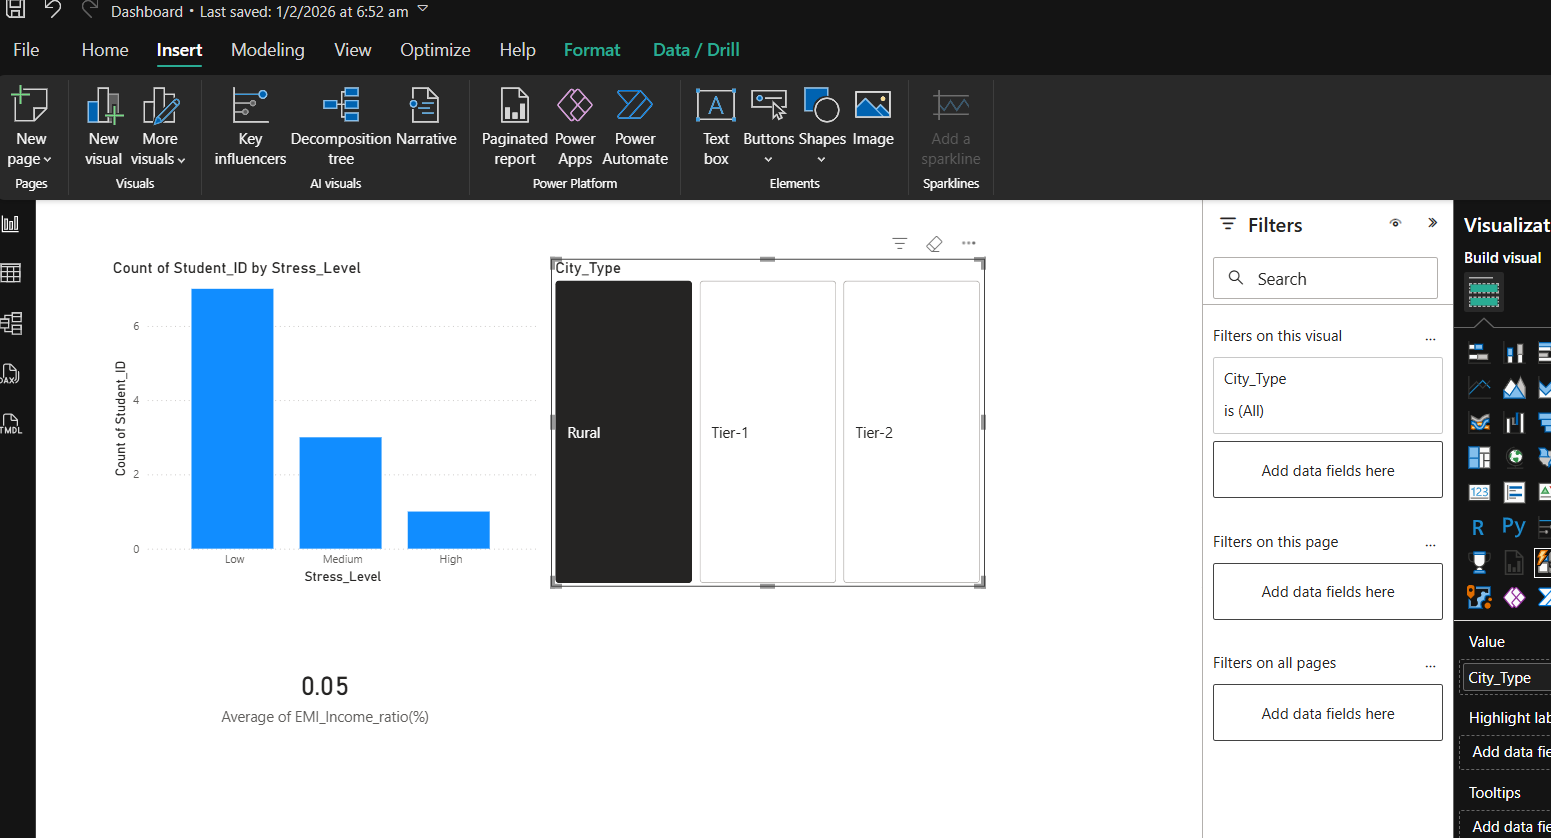

What the dashboard file says about the page in this screenshot:
{"tool":"powerbi","page":{"name":"Page 1","canvas":[1280,720],"ordinal":0},"visuals":[{"type":"card","fields":{"Values":["Avg(Sheet1.EMI_Income_ratio(%))"]},"box":[183.9,467.9,267.6,149.6],"z":3},{"type":"clusteredColumnChart","fields":{"Y":["CountNonNull(Sheet1.Student_ID)"],"Category":["Sheet1.Stress_Level"]},"box":[79.6,64.5,476.2,362.3],"z":4},{"type":"advancedSlicerVisual","fields":{"Values":["Sheet1.City_Type"]},"box":[566,64,476,362],"z":5}]}

Visuals, with their boxes on the page's 1280x720 design canvas (x1, y1, x2, y2). These are canvas units, not pixel positions in the 1551x838 screenshot, which may show the page scaled, cropped or inside an application window:
card - Avg(Sheet1.EMI_Income_ratio(%)): (184, 468, 452, 618)
clusteredColumnChart - CountNonNull(Sheet1.Student_ID) x Sheet1.Stress_Level: (80, 64, 556, 427)
advancedSlicerVisual - Sheet1.City_Type: (566, 64, 1042, 426)
